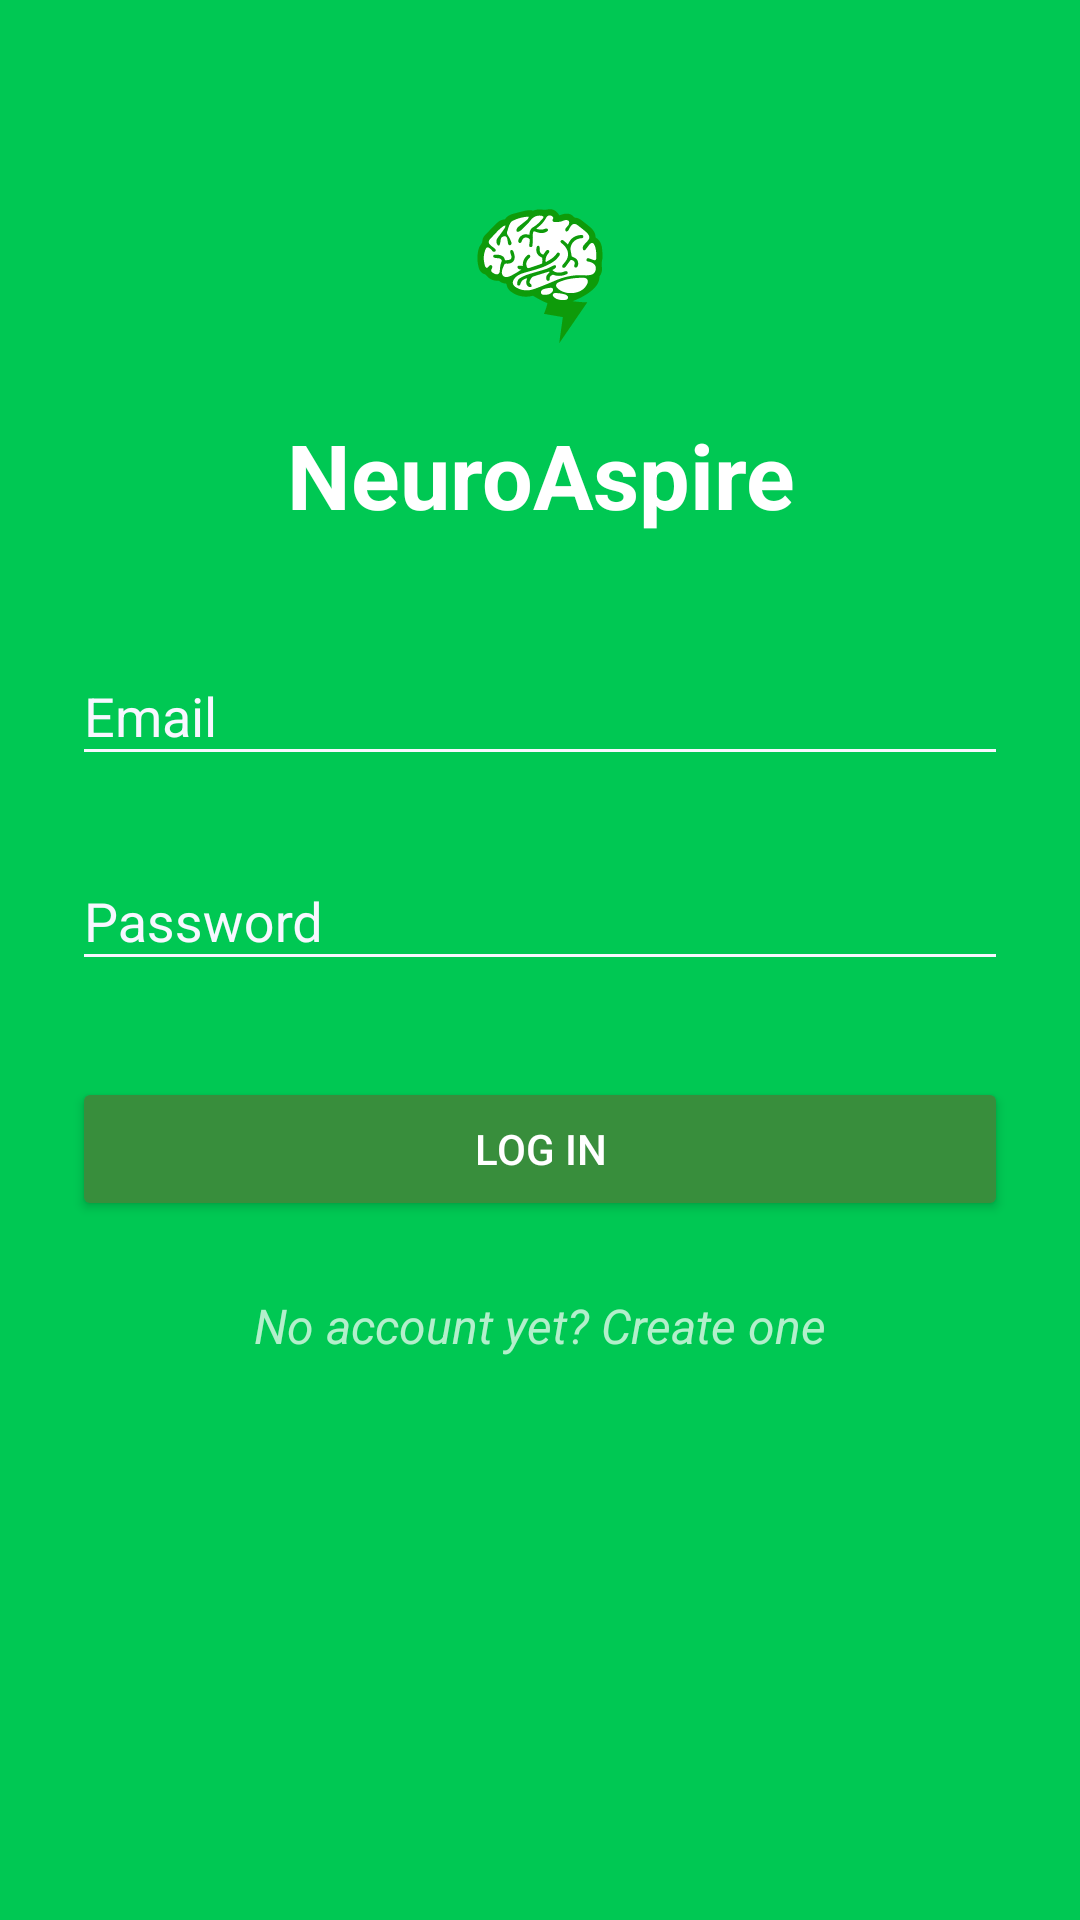

Where icons sit on this 1080w x 1920h app screen, as box(x1, y1, x2, y2):
brain: box(477, 209, 603, 343)
